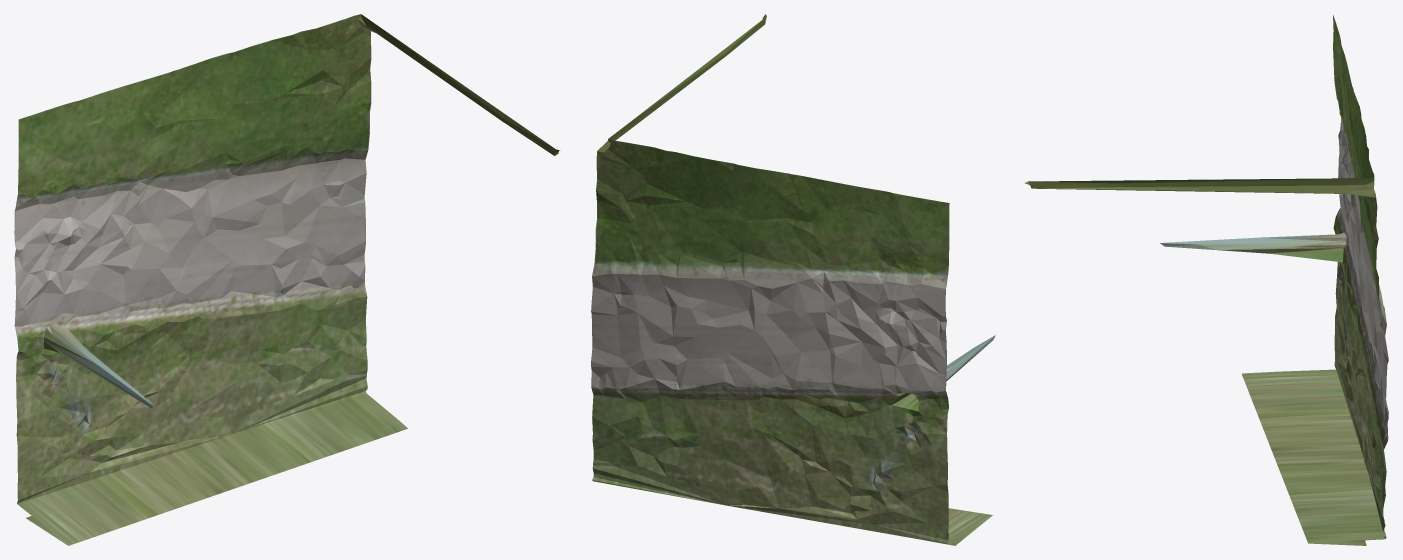
File: map_0_70.obj
The picture shows the model from 3 angles, left to right: view 1: azimuth 30°, elevation 25°; view 2: azimuth 150°, elevation 25°; view 3: azimuth 270°, elevation 25°; orthographic projection. The views are drawn at different scales.
Visible parts, largest first — view 1: grp1; view 2: grp1; view 3: grp1.
Boxes of the visible parts, bbox=[...] form: grp1: bbox=[14, 14, 560, 545]; grp1: bbox=[591, 14, 995, 545]; grp1: bbox=[1024, 15, 1388, 545].
Bounding box in the file's own units: 10 × 10 × 9.11.
Materials: 1 (1 with a texture image).
